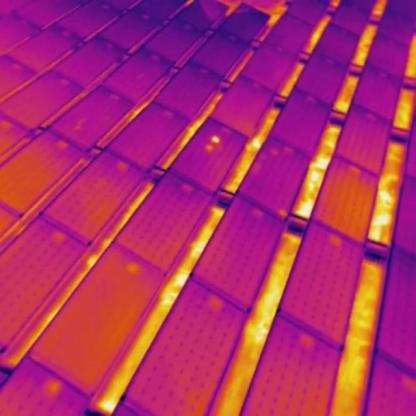anomaly: (211, 133, 220, 146)
